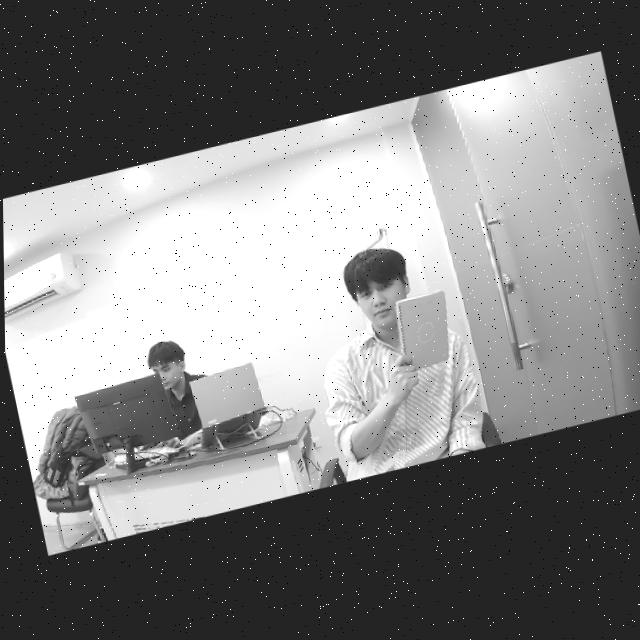document: (397, 290, 449, 373)
face: (348, 266, 408, 332), (150, 353, 187, 395)
